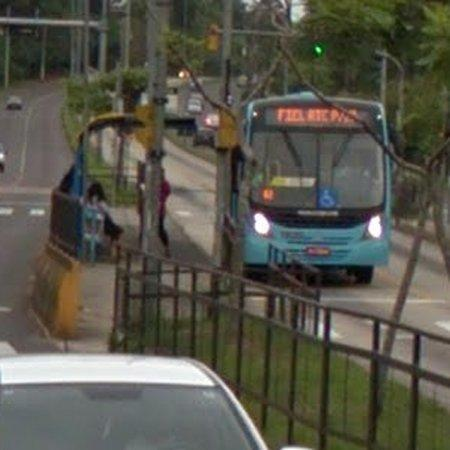buses: (239, 92, 391, 284)
